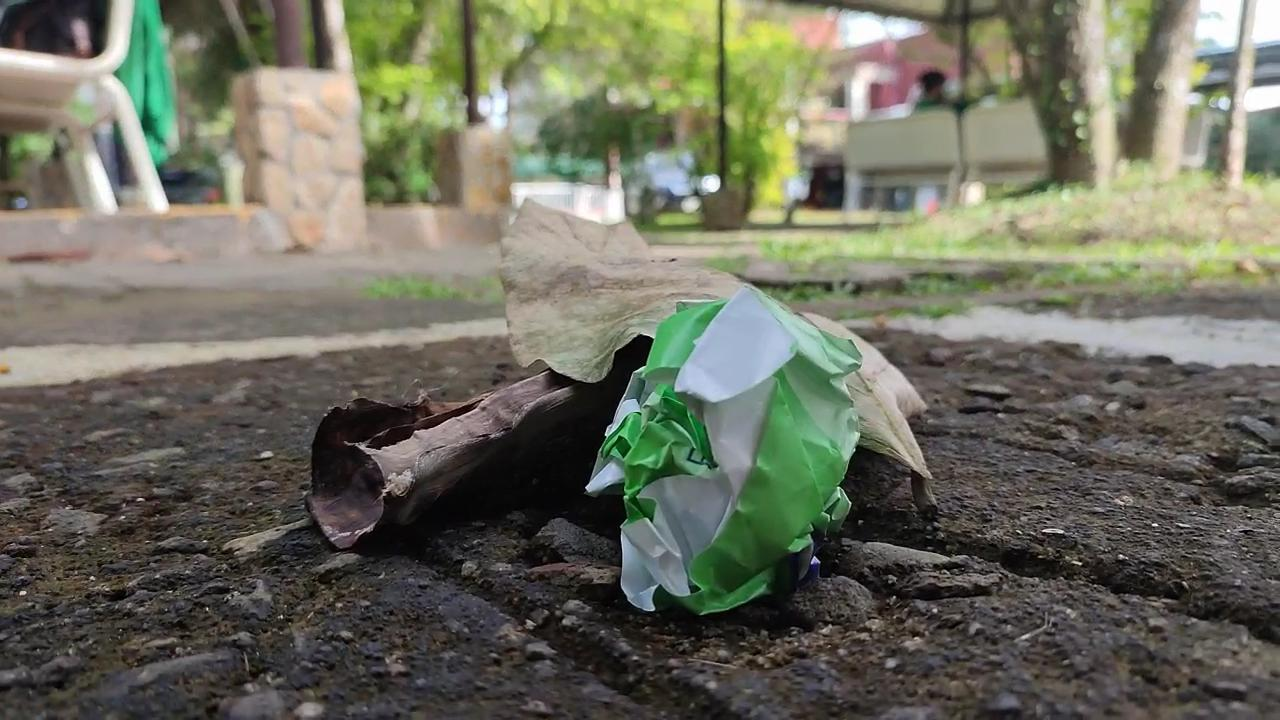Paper: (575, 262, 872, 625)
